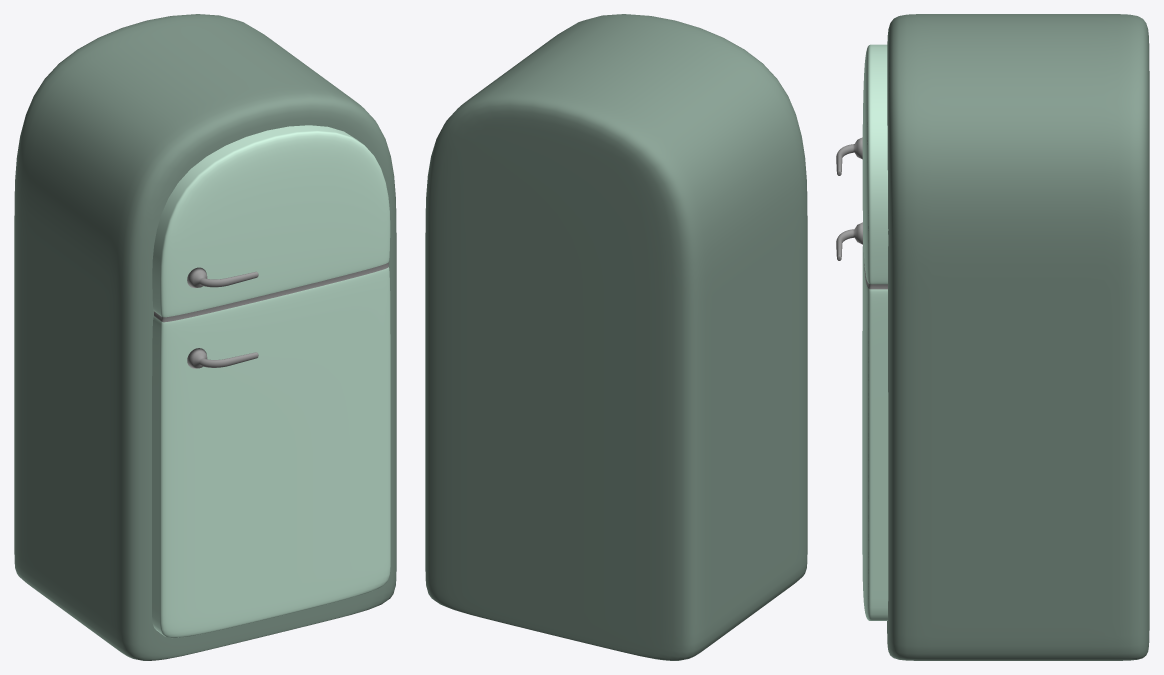
The model's file is fridge.fbx.
3 views of the same model, side by side, from view 1: azimuth 30°, elevation 25°; view 2: azimuth 150°, elevation 25°; view 3: azimuth 270°, elevation 25° (orthographic). The views are drawn at different scales.
Visible parts, largest first — view 1: Cube.002; view 2: Cube.002; view 3: Cube.002.
Part boxes in pixels (<box>): Cube.002: <box>14,14,396,660</box>; Cube.002: <box>425,14,807,660</box>; Cube.002: <box>836,14,1149,660</box>.
Bounding box in the file's own units: 225 × 416 × 211.
